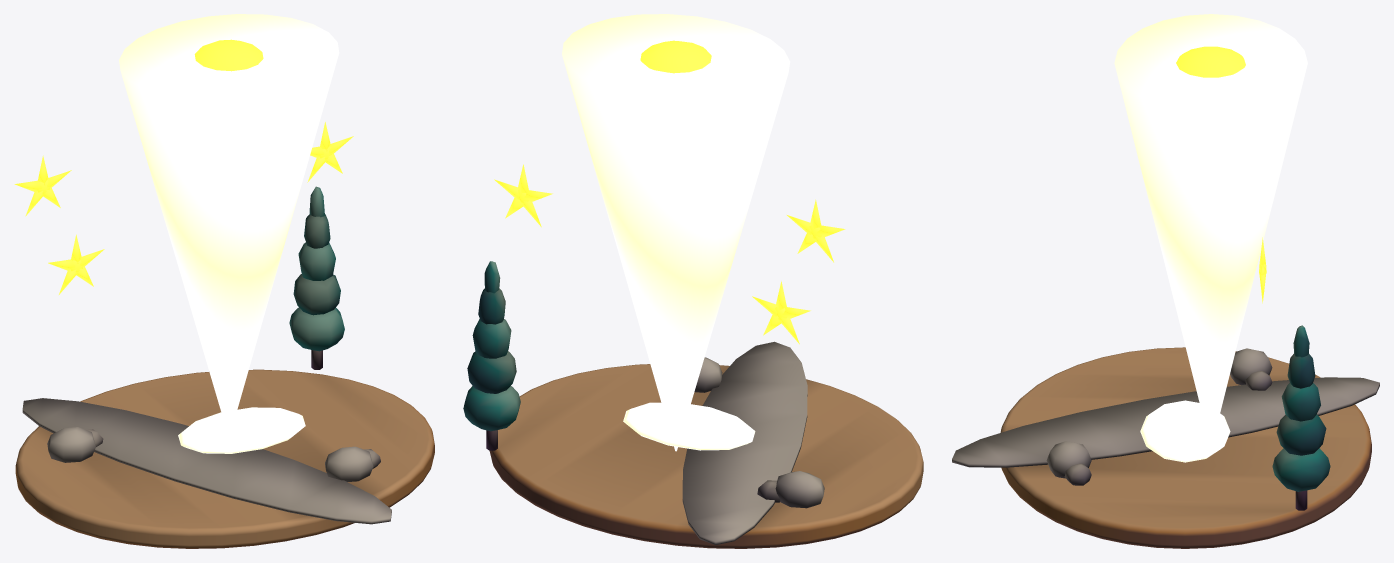
The model's file is damascus.glb.
3 views of the same model, side by side, from view 1: azimuth 30°, elevation 25°; view 2: azimuth 150°, elevation 25°; view 3: azimuth 270°, elevation 25° (orthographic). The views are drawn at different scales.
Visible parts, largest first — view 1: damascus; view 2: damascus; view 3: damascus.
Part boxes in pixels (box(x1,y1,x2,y2)): damascus: box(14, 14, 434, 548); damascus: box(463, 14, 923, 548); damascus: box(952, 14, 1379, 548).
Bounding box in the file's own units: 4.69 × 4.9 × 4.58.
